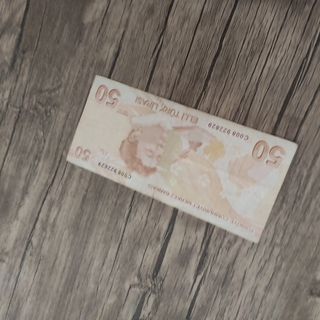50TLBack: (64, 74, 299, 244)
